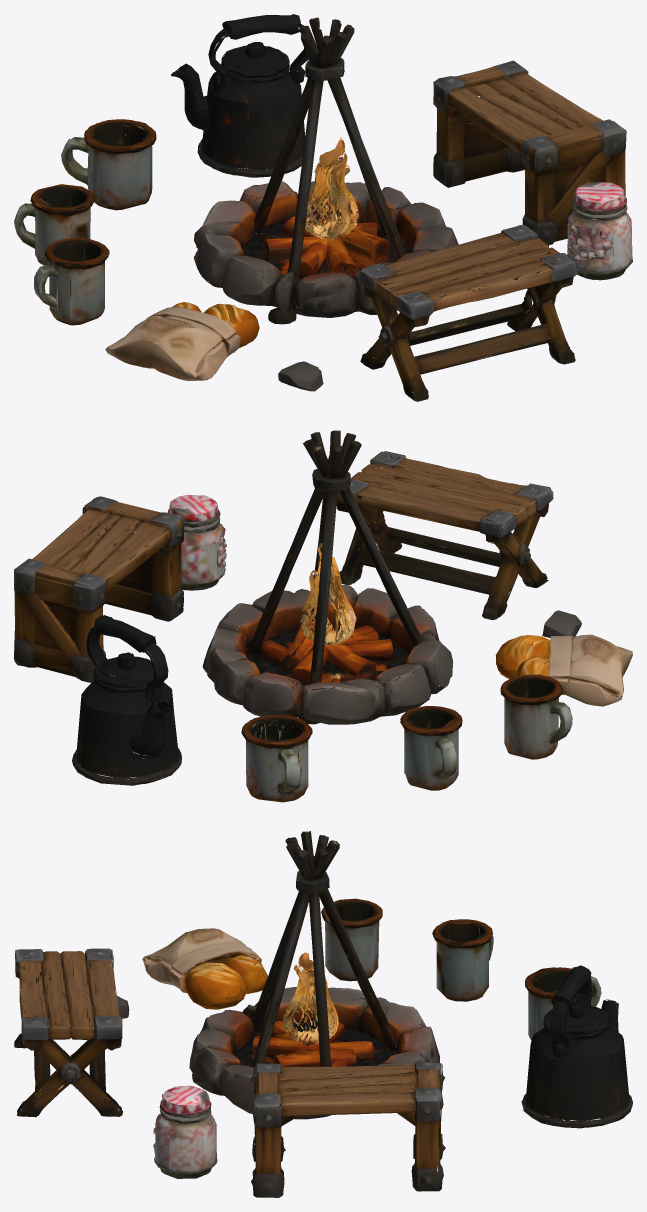
The model's file is env-campfire-props.glb.
The picture shows the model from 3 angles, top to bottom: view 1: azimuth 30°, elevation 25°; view 2: azimuth 150°, elevation 25°; view 3: azimuth 270°, elevation 25°; orthographic projection. The views are drawn at different scales.
Visible parts, largest first — view 1: env-campfire-props; view 2: env-campfire-props; view 3: env-campfire-props.
Part boxes in pixels (<box>): env-campfire-props: <box>14,14,632,401</box>; env-campfire-props: <box>14,430,632,802</box>; env-campfire-props: <box>14,831,632,1197</box>.
Size of the model in its own units: 4.54 by 2 by 4.74.
Materials: 1 (1 with a texture image).
